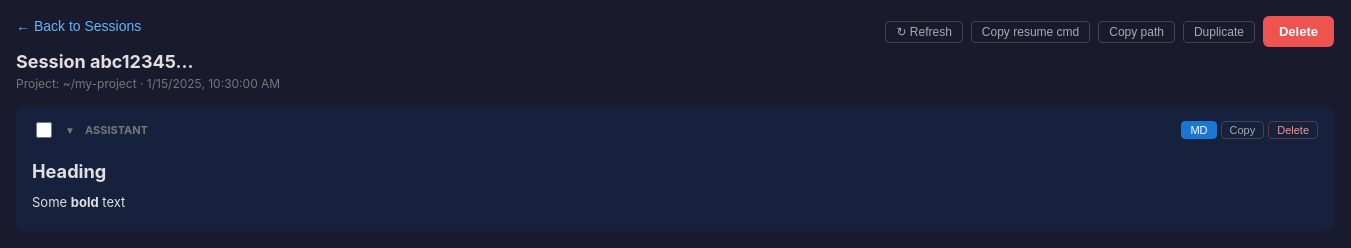
Test: SessionDetail › markdown toggle › renders raw text when MD button is clicked
Check: the element with class "markdown-body" is shown, box top-left (32, 160), bottom-right (125, 210)
Click the button "MD". click: click(1199, 130)
box: top-left (1181, 121), bottom-right (1216, 139)
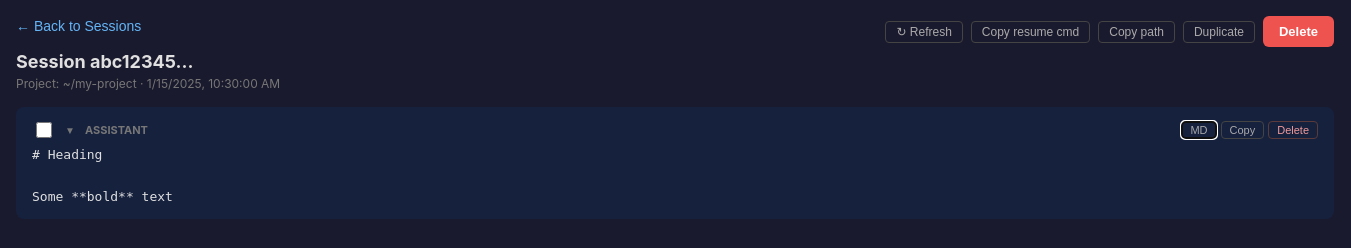
Check: the text "# Heading Some **bold** text" is shown, box top-left (32, 147), bottom-right (173, 204)
Check: the element with class "markdown-body" is gone
